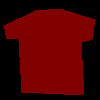abbigliamento_uomo: (3, 8, 95, 95)
